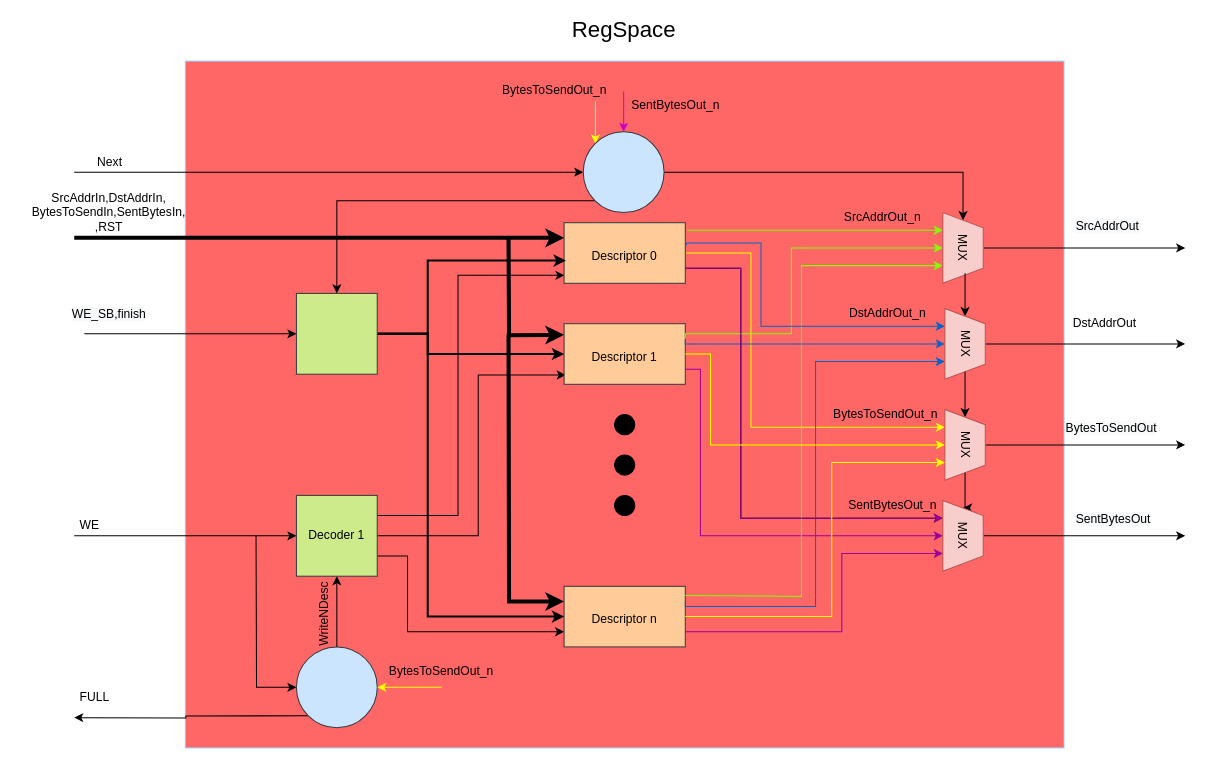
This 1211x766 diagram has some shape labels left out. Here are the shapes that lost their labels. From the top down, the box of each, then its label:
(582, 131, 664, 213): control_I/O
(295, 292, 377, 374): Decoder 0
(295, 646, 377, 728): controlWE
